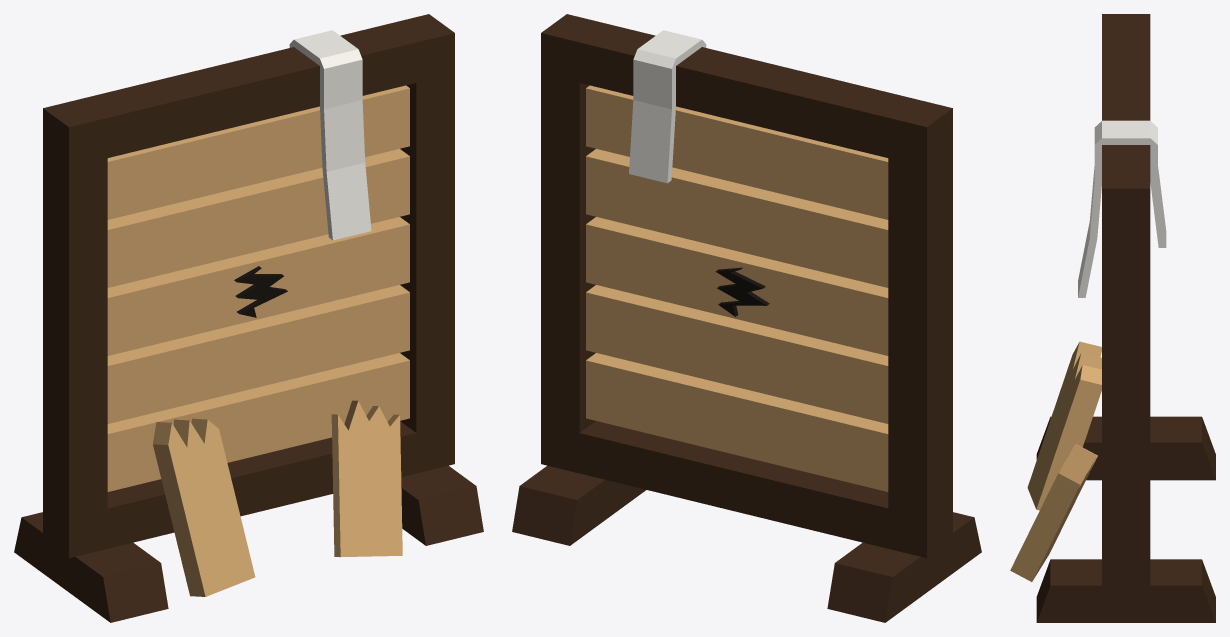
Rendered from board-break-target.glb.
3 views of the same model, side by side, from view 1: azimuth 30°, elevation 25°; view 2: azimuth 150°, elevation 25°; view 3: azimuth 270°, elevation 25° (orthographic). The views are drawn at different scales.
Visible parts, largest first — view 1: Boards, Frame, Cloth, Crack; view 2: Frame, Boards, Cloth, Crack; view 3: Frame, Boards, Cloth.
Part boxes in pixels (x1,y1,x2,y2): Boards: (107,85,409,596); Frame: (14,14,483,622); Cloth: (289,30,371,240); Crack: (234,266,287,317); Frame: (512,14,981,622); Boards: (586,85,888,491); Cloth: (629,30,706,183); Crack: (715,267,769,316); Frame: (1036,14,1215,622); Boards: (1010,341,1101,581); Cloth: (1078,120,1166,297).
Bounding box in the file's own units: 6 × 7.11 × 2.99.
